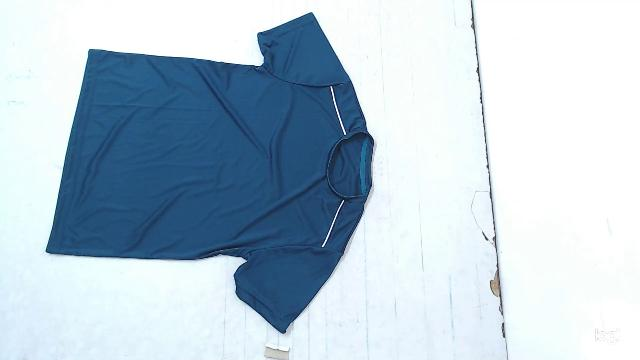new-garment: (46, 13, 374, 333)
